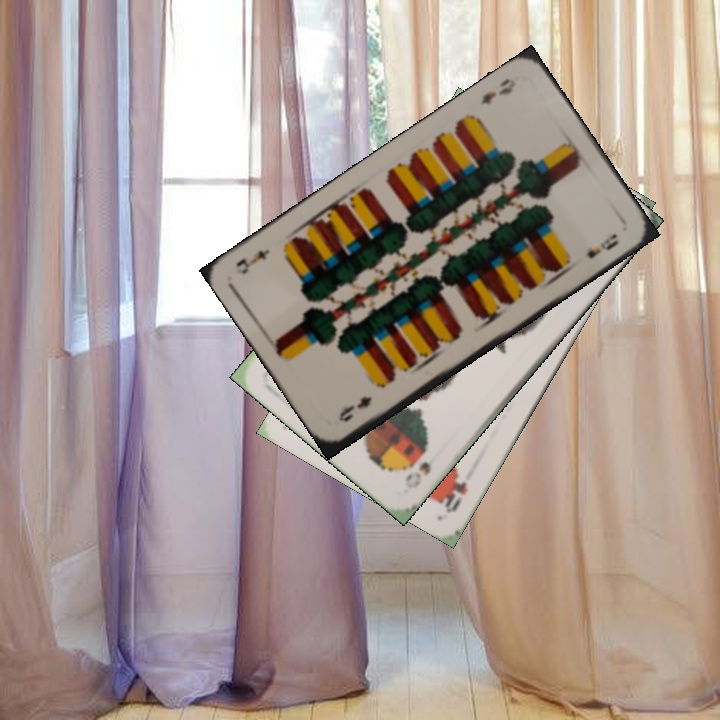E9: (476, 74, 519, 107), (334, 392, 375, 425)
HO: (440, 470, 471, 516)
SO: (401, 443, 433, 492)
